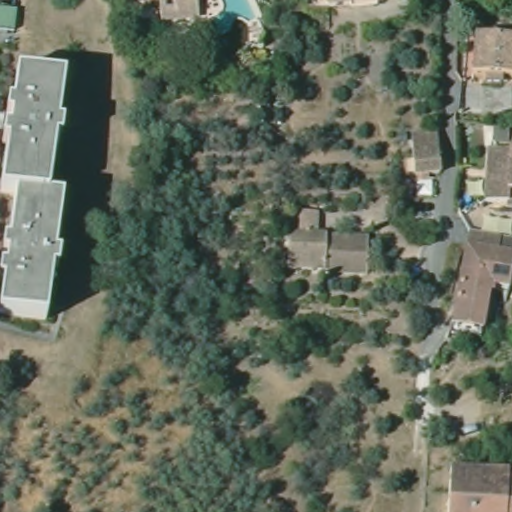pool: (215, 1, 261, 29)
